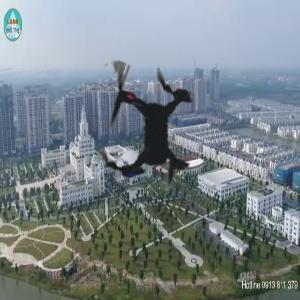drone: (44, 27, 248, 231)
